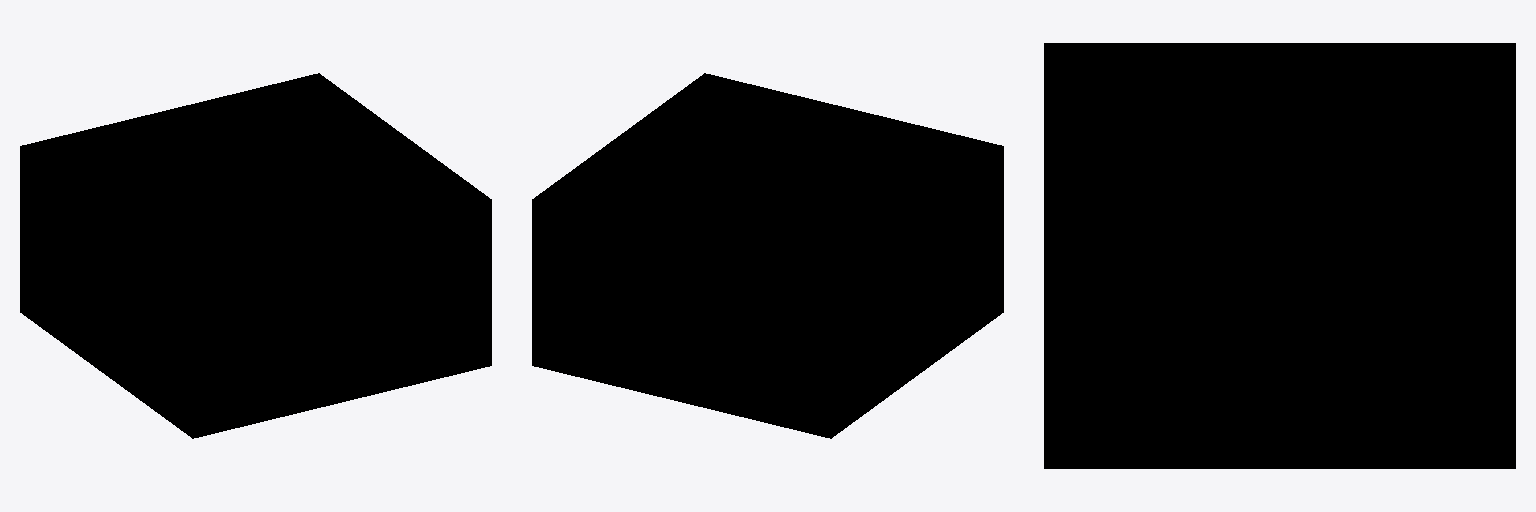
robot.urdf — block:
<?xml version="1.0" encoding="utf-8"?>

<robot name="block">

  <link name="base">
    <inertial>
      <origin xyz="0 0 0" />
      <mass value="0.01" />
      <inertia  ixx="0.3" ixy="0.0"  ixz="0.0"  iyy="0.3"  iyz="0.0"  izz="0.3" />
    </inertial>
    <visual>
      <origin xyz="0 0 0"/>
      <geometry>
        <box size="3 3 1.6" />
      </geometry>
      <material name="">
        <color rgba="0 0 0 1"/>
      </material>
    </visual>
    <collision>
      <origin xyz="0 0 0"/>
      <geometry>
        <box size="3 3 1.6" />
      </geometry>
    </collision>
  </link>

<!--   <gazebo reference="base">
    <mu1>1.0</mu1>
    <mu2>1.0</mu2>
    <minDepth>0.003</minDepth>  
    <maxVel>0</maxVel>  
  </gazebo> -->

 
</robot>

--- What the picture shows (computed from the rendered views, not written in the file) ---
3 views of the same robot in one strip: view 1: azimuth 30°, elevation 25°; view 2: azimuth 150°, elevation 25°; view 3: azimuth 270°, elevation 25° (orthographic).
Model block with 1 links and 0 joints (none), rooted at base, posed every joint at zero.
Visible links, largest first — view 1: base; view 2: base; view 3: base.
Boxes of the visible links, left/top/right/bottom form: base: left=20, top=73, right=491, bottom=438; base: left=532, top=73, right=1003, bottom=438; base: left=1044, top=43, right=1515, bottom=468.
Size in the robot's own frame: 3 by 3 by 1.6 metres.
Geometry: primitives only (box / cylinder / sphere), no mesh files.
